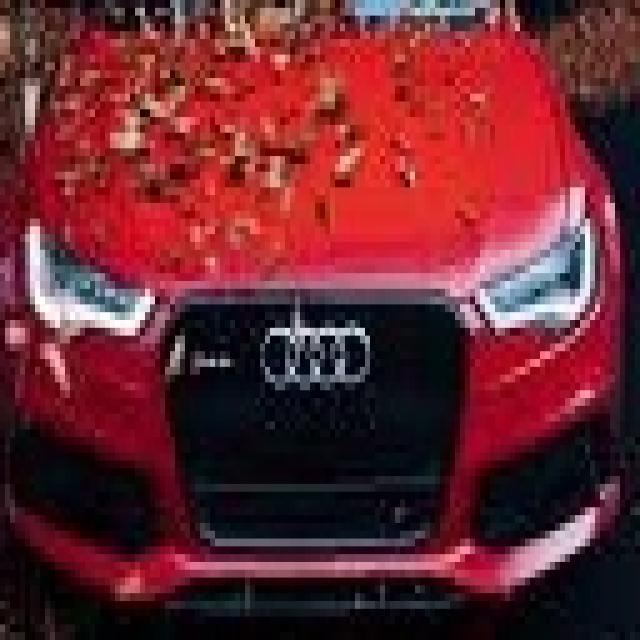red: (2, 3, 640, 602)
